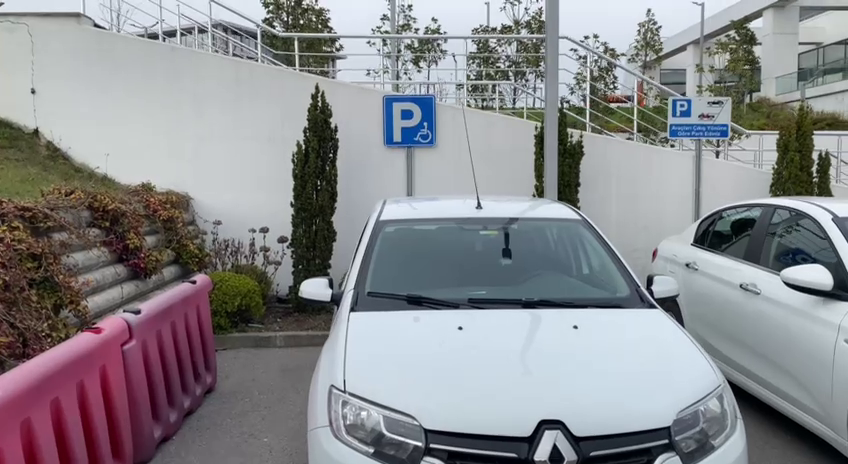parking: (382, 93, 437, 148), (671, 99, 693, 119)
